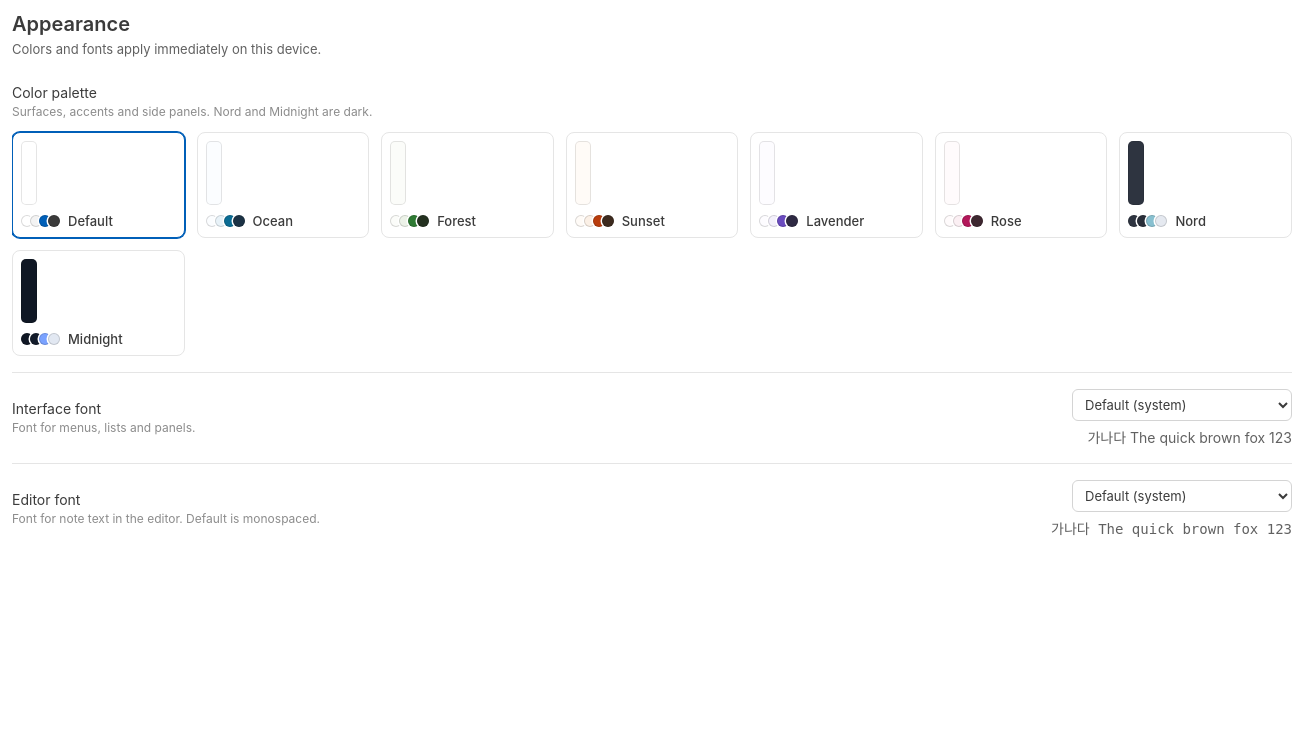
Test: AppearanceSection › rejects forbidden characters inline without saving
This screenshot has width=1304, height=732.
Select "Custom…" in the dropdown labelled "Interface font" at (1182,405), box left=1072, top=389, right=1292, bottom=421
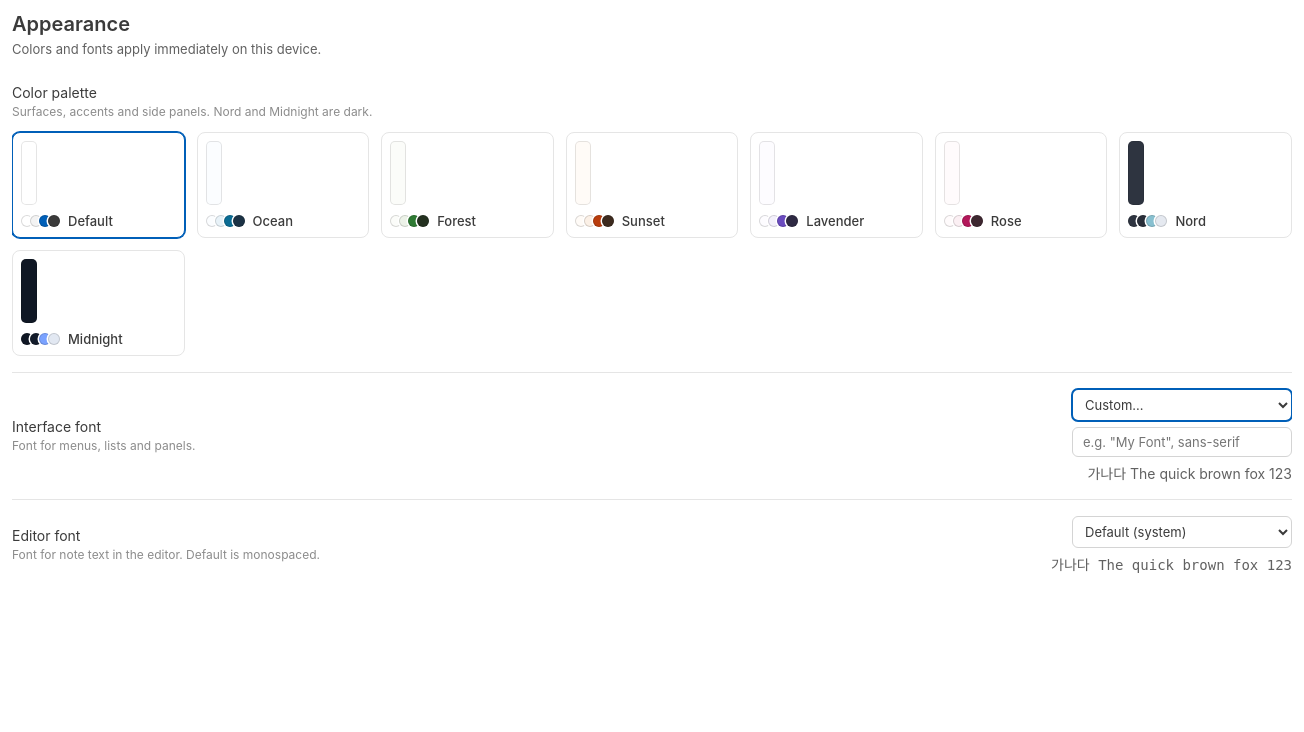
Type "Arial; color: red" into the field with test id "uiFont-custom" at (1182,442), box left=1072, top=427, right=1292, bottom=457
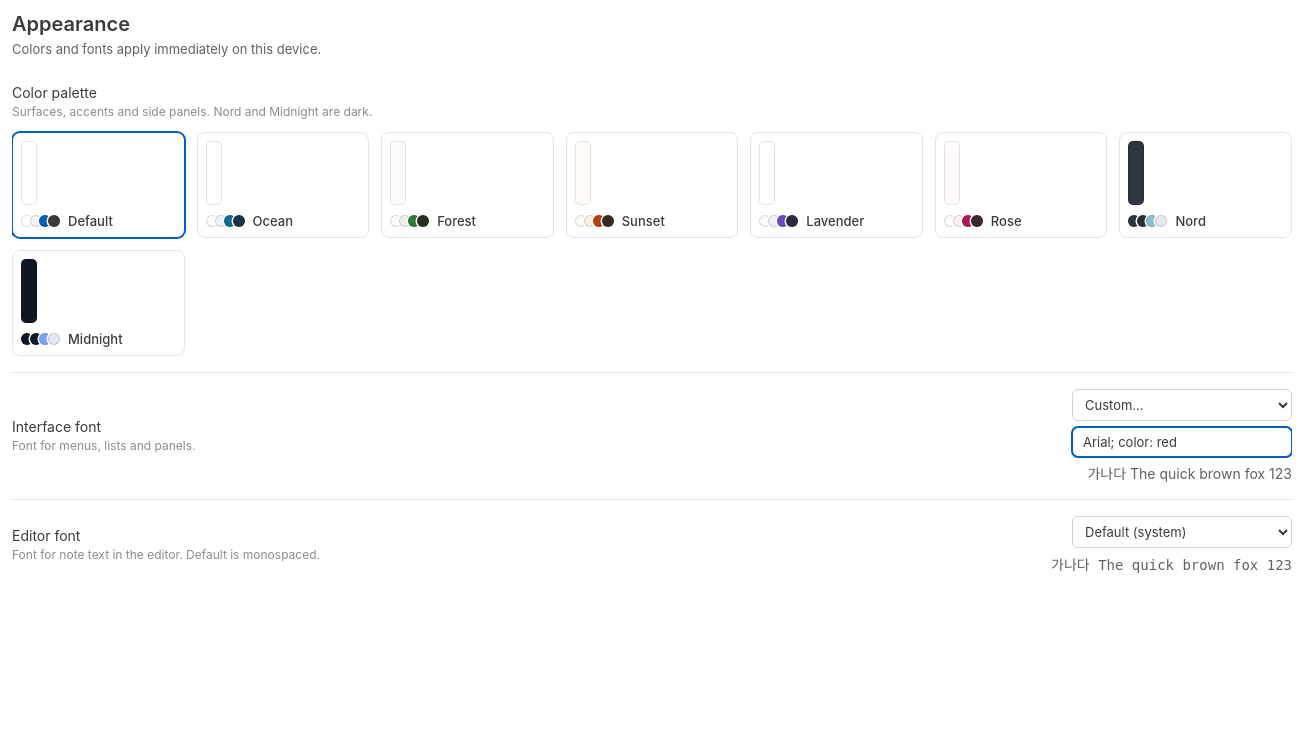
Leave the field with test id "uiFont-custom", box left=1072, top=427, right=1292, bottom=457
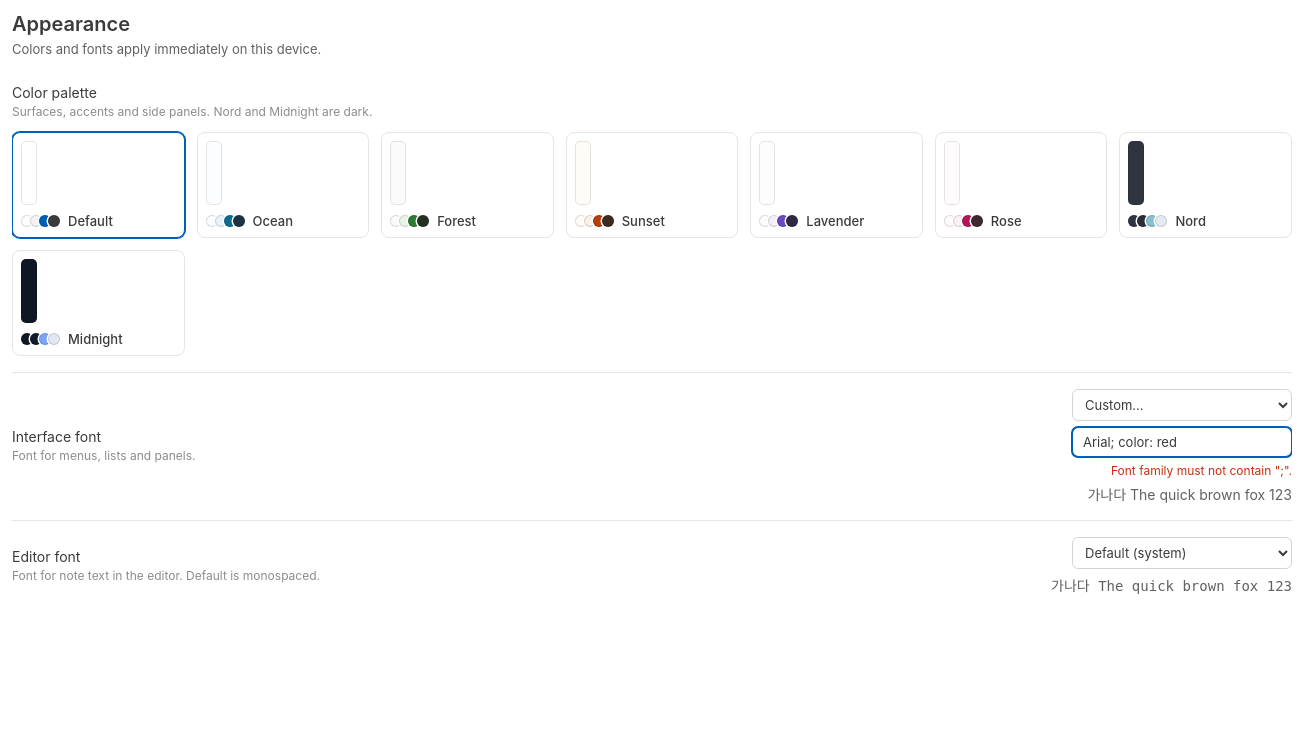
Now the message shows "\";\"", box left=1111, top=463, right=1292, bottom=478
